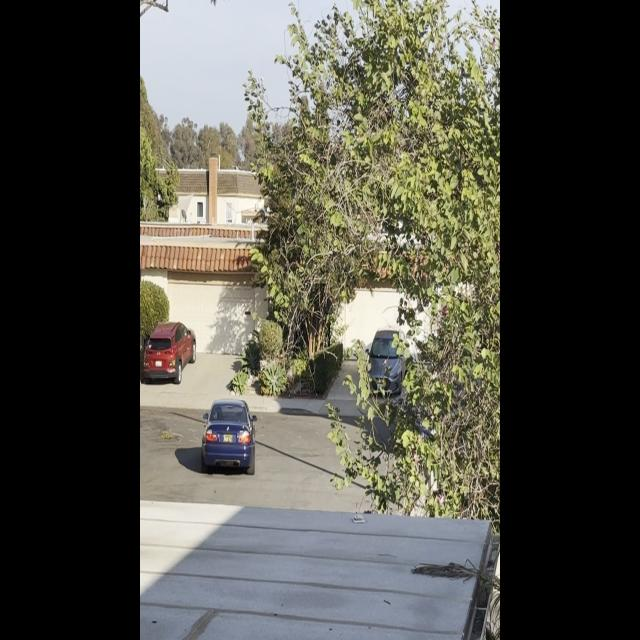Carbeetle: (198, 396, 260, 479)
Civilian: (140, 318, 199, 383), (363, 320, 409, 403)
